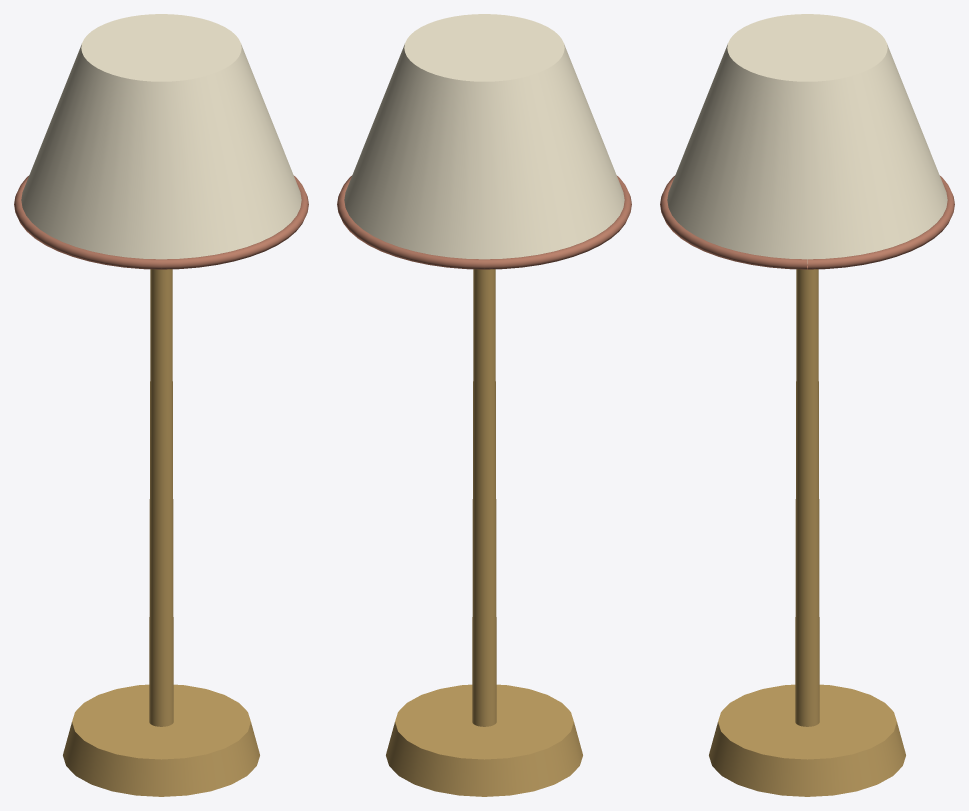
Rendered from classic-lamp.glb.
3 renders of one model, left to right at view 1: azimuth 30°, elevation 25°; view 2: azimuth 150°, elevation 25°; view 3: azimuth 270°, elevation 25°, orthographic.
Visible parts, largest first — view 1: Base.002; view 2: Base.002; view 3: Base.002.
Part boxes in pixels (x1,y1,x2,y2): Base.002: (14,14,308,796); Base.002: (337,14,631,796); Base.002: (660,14,954,796).
Bounding box in the file's own units: 0.956 × 2.53 × 0.956.
